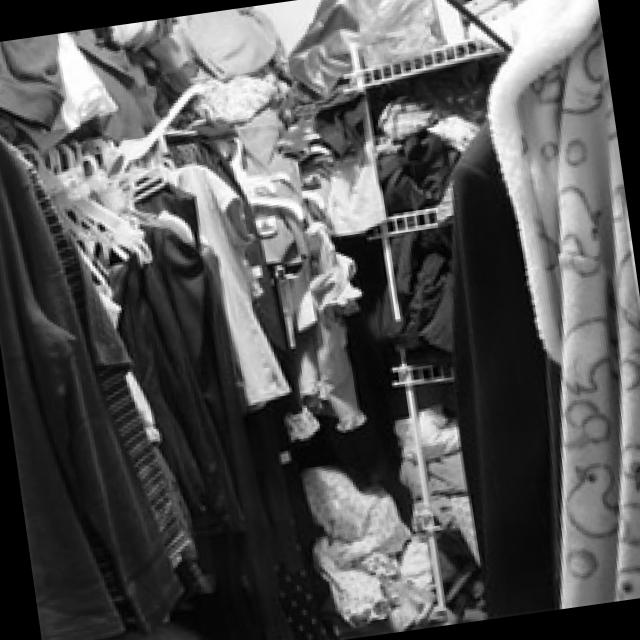clothing: (24, 137, 324, 640), (0, 7, 282, 155), (240, 0, 375, 259), (298, 460, 435, 630), (392, 395, 486, 606), (273, 215, 360, 439), (371, 65, 487, 209), (365, 214, 450, 360)
coat rack: (479, 0, 640, 603)
jacket: (448, 126, 548, 613)
sweatshirt: (0, 137, 183, 640)
